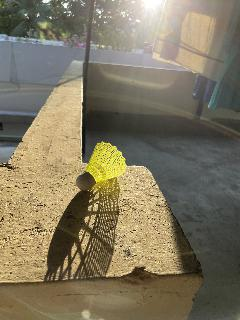shuttlecock: (76, 140, 126, 190)
